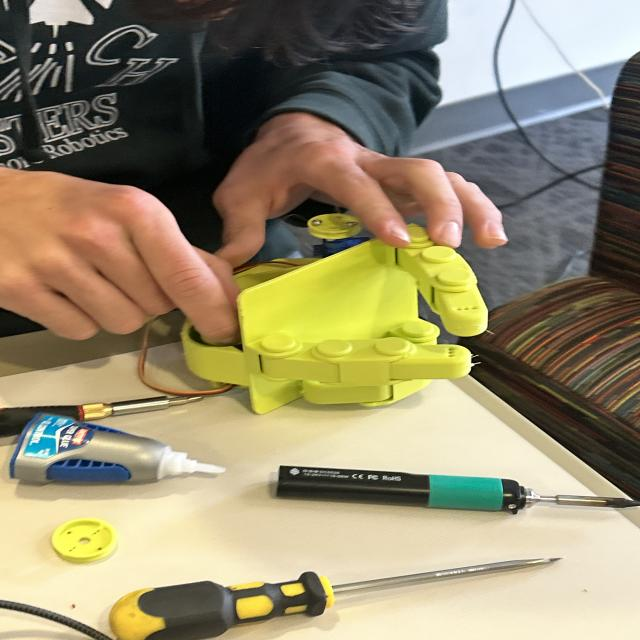prosthetic: (183, 222, 501, 414)
